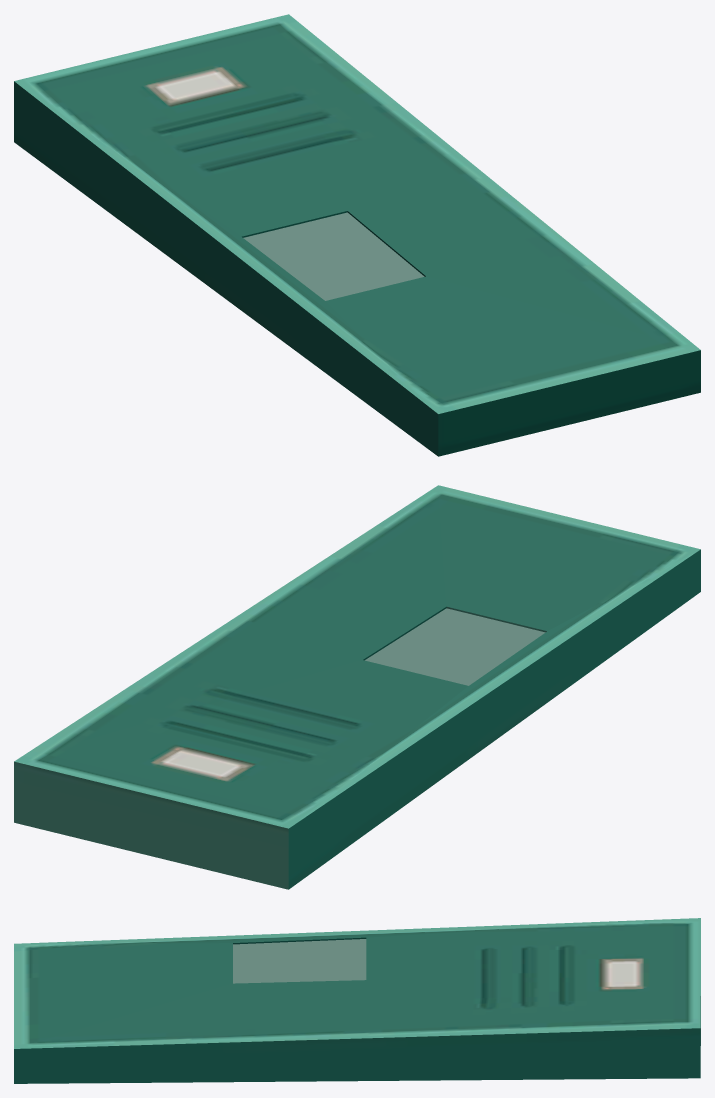
Rendered from LockerDoor.fbx.
The picture shows the model from 3 angles, top to bottom: view 1: azimuth 30°, elevation 25°; view 2: azimuth 150°, elevation 25°; view 3: azimuth 270°, elevation 25°; orthographic projection. The views are drawn at different scales.
Parts seen in each view (by area): view 1: LockerDoor; view 2: LockerDoor; view 3: LockerDoor.
Part boxes in pixels (x1,y1,x2,y2): LockerDoor: (14, 14, 700, 456); LockerDoor: (14, 485, 700, 889); LockerDoor: (14, 918, 700, 1083).
Size of the model in its own units: 49.52 by 12.21 by 131.
